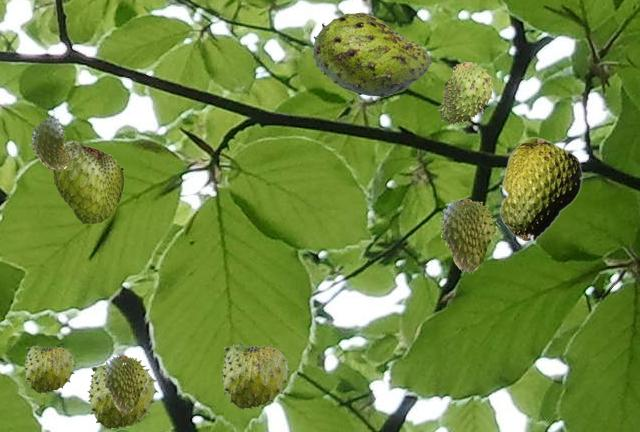guyabano: (312, 12, 430, 96), (498, 136, 582, 242), (52, 139, 123, 223), (87, 361, 157, 428), (220, 341, 290, 408), (438, 198, 499, 273), (437, 62, 492, 124), (102, 355, 149, 413), (23, 343, 75, 392), (29, 115, 70, 173)
